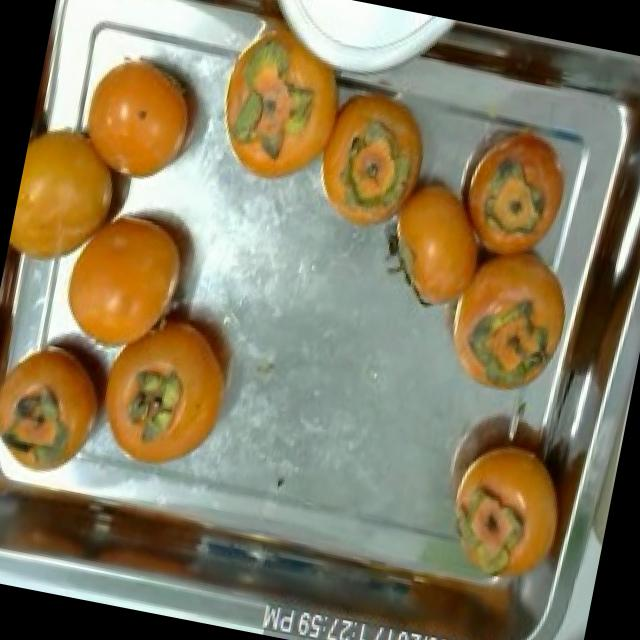Fruit: (80, 278, 260, 493), (425, 212, 585, 420), (56, 182, 214, 379), (419, 414, 578, 609), (3, 96, 149, 295), (297, 64, 449, 252), (434, 98, 590, 268), (70, 32, 220, 207), (370, 147, 512, 330), (0, 304, 129, 501), (402, 13, 583, 119)
